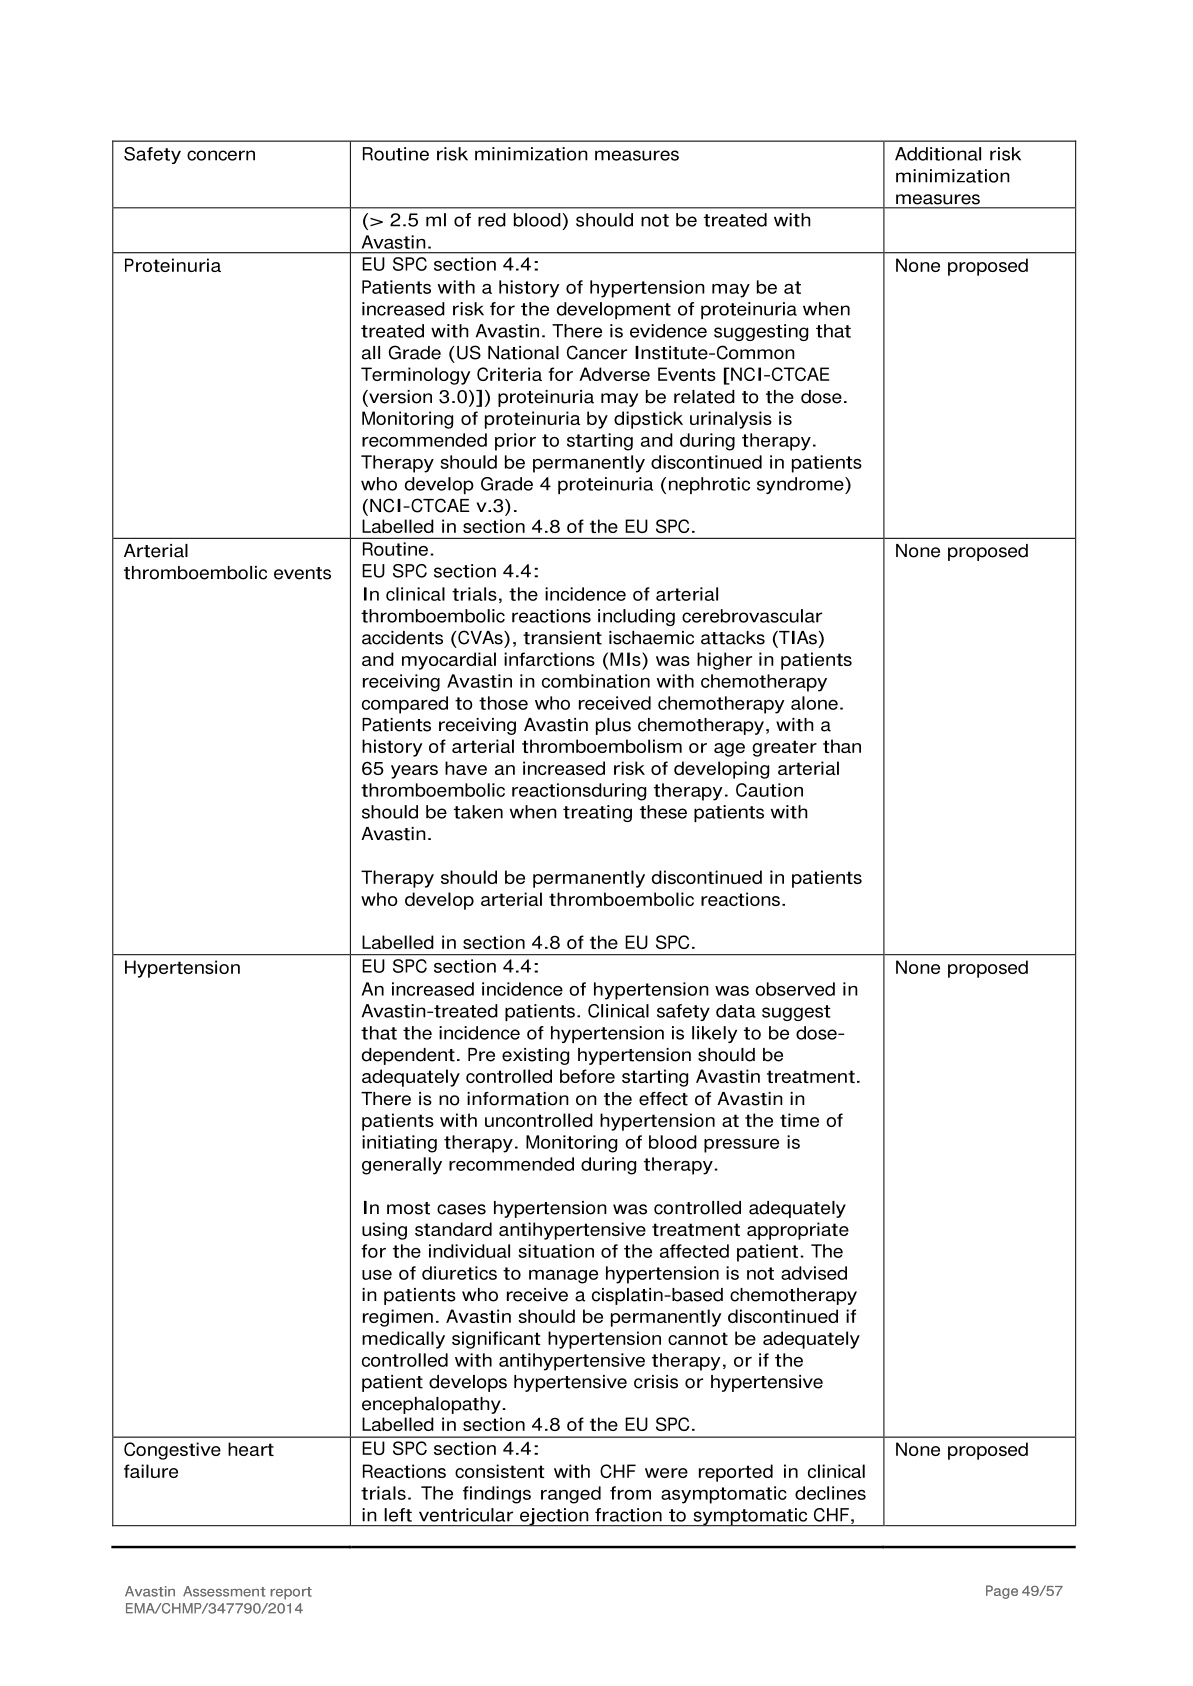full_lined: (111, 139, 1077, 1527)
